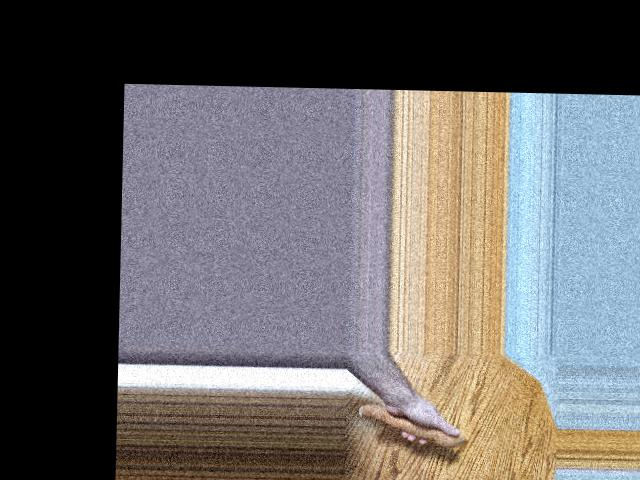sweet_potato: (356, 400, 465, 451)
